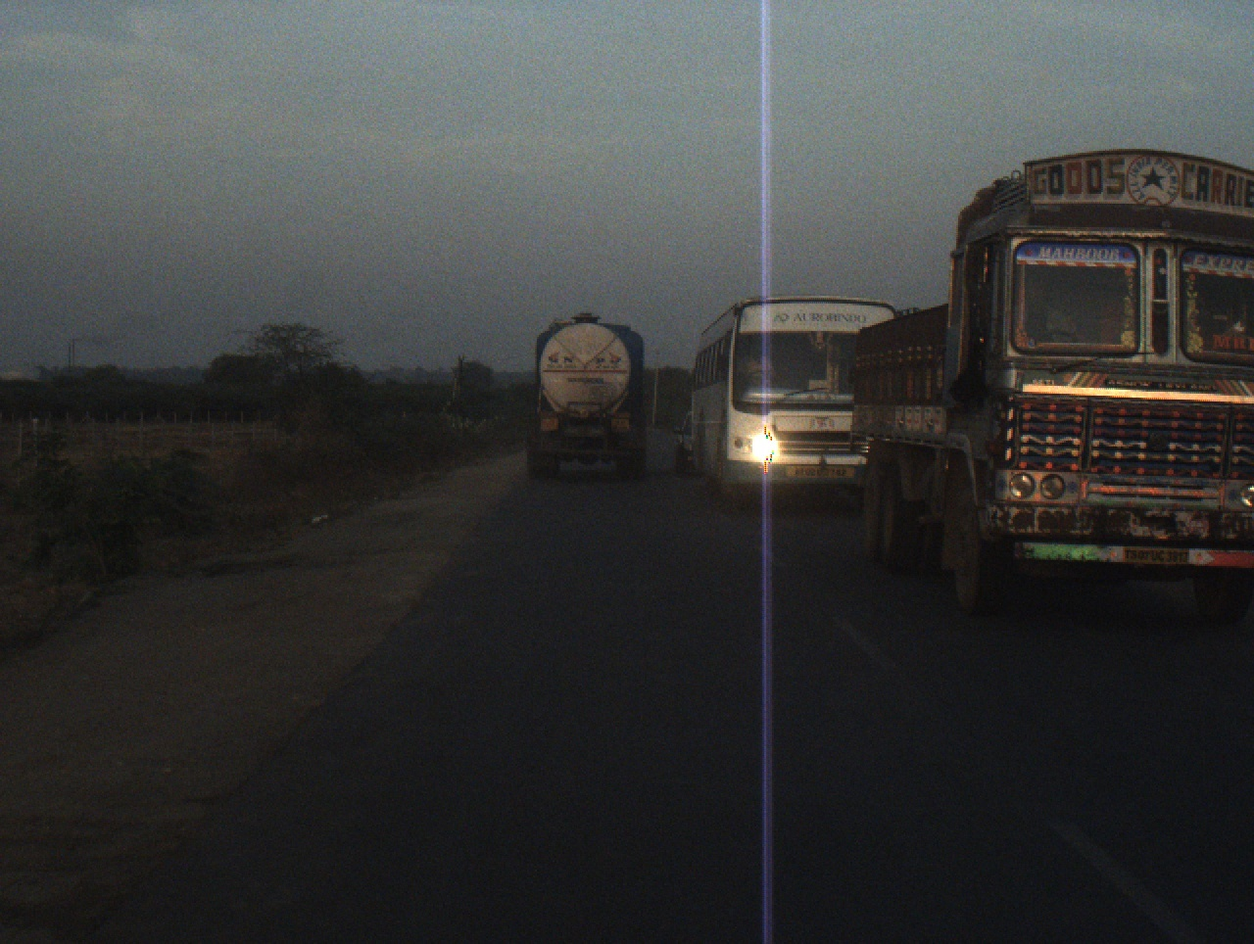bus: (694, 295, 901, 509)
car: (674, 411, 704, 474)
truck: (851, 139, 1254, 631), (522, 309, 654, 490)
